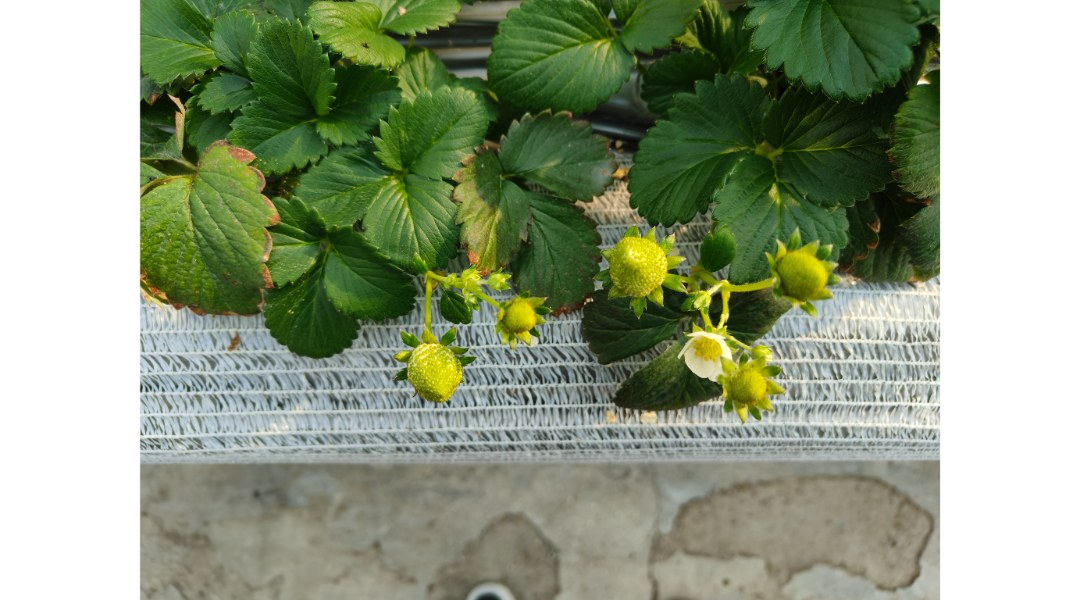berry: (598, 222, 683, 317), (767, 224, 839, 319), (398, 331, 473, 408), (719, 352, 785, 425), (496, 295, 556, 345)
flower: (680, 325, 740, 384)
strain: (421, 279, 435, 333), (730, 275, 770, 291), (722, 289, 727, 330)
